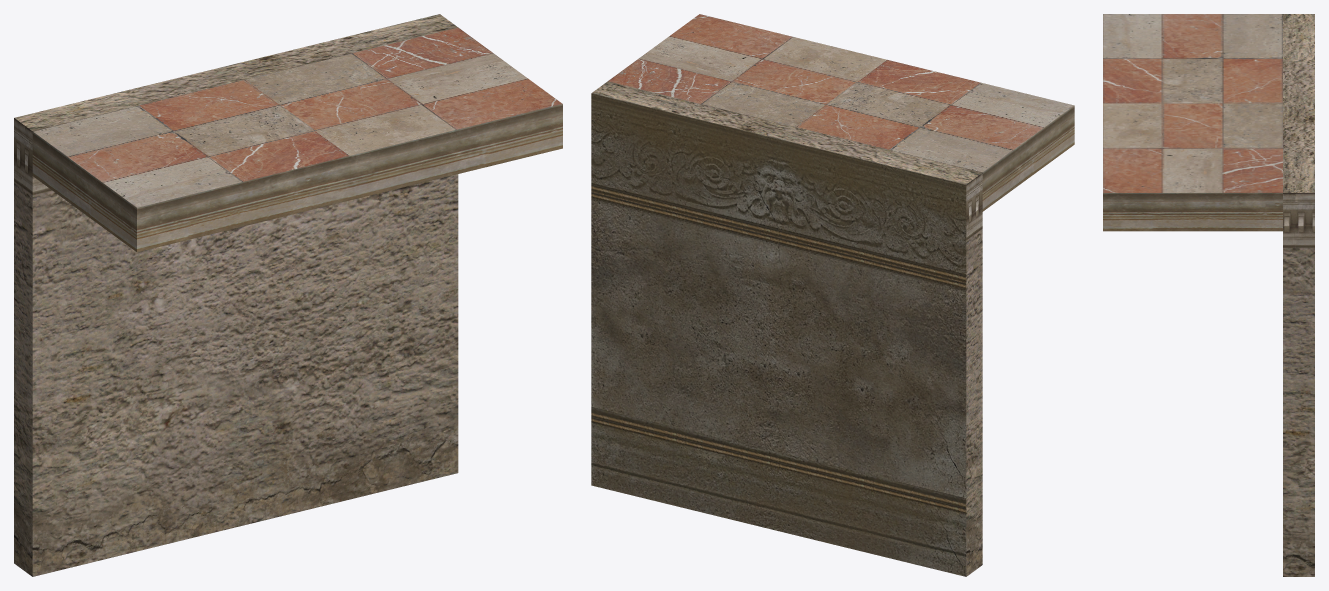
File: SH3D_Sparta_BalcWall7.obj
The picture shows the model from 3 angles, left to right: view 1: azimuth 30°, elevation 25°; view 2: azimuth 150°, elevation 25°; view 3: azimuth 270°, elevation 25°; orthographic projection. The views are drawn at different scales.
Parts seen in each view (by area): view 1: Base_ExtWall_Sparta0, Base_Floor2_Sparta0, Base_StepsRail_Sparta0; view 2: Base_IntWall_Sparta0, Base_Floor2_Sparta0, Base_ExtWall_Sparta0, Base_StepsRail_Sparta0; view 3: Base_Floor2_Sparta0, Base_ExtWall_Sparta0, Base_StepsRail_Sparta0.
Part boxes in pixels (bbox=[...]): Base_ExtWall_Sparta0: bbox=[14, 14, 458, 576]; Base_Floor2_Sparta0: bbox=[33, 27, 562, 207]; Base_StepsRail_Sparta0: bbox=[32, 104, 562, 252]; Base_IntWall_Sparta0: bbox=[591, 93, 966, 576]; Base_Floor2_Sparta0: bbox=[608, 14, 1074, 172]; Base_ExtWall_Sparta0: bbox=[592, 81, 982, 576]; Base_StepsRail_Sparta0: bbox=[982, 105, 1074, 211]; Base_Floor2_Sparta0: bbox=[1103, 14, 1282, 192]; Base_ExtWall_Sparta0: bbox=[1283, 14, 1314, 576]; Base_StepsRail_Sparta0: bbox=[1103, 193, 1282, 231].
Size of the model in its own units: 400 by 400 by 200.
Materials: 5 (5 with a texture image).
